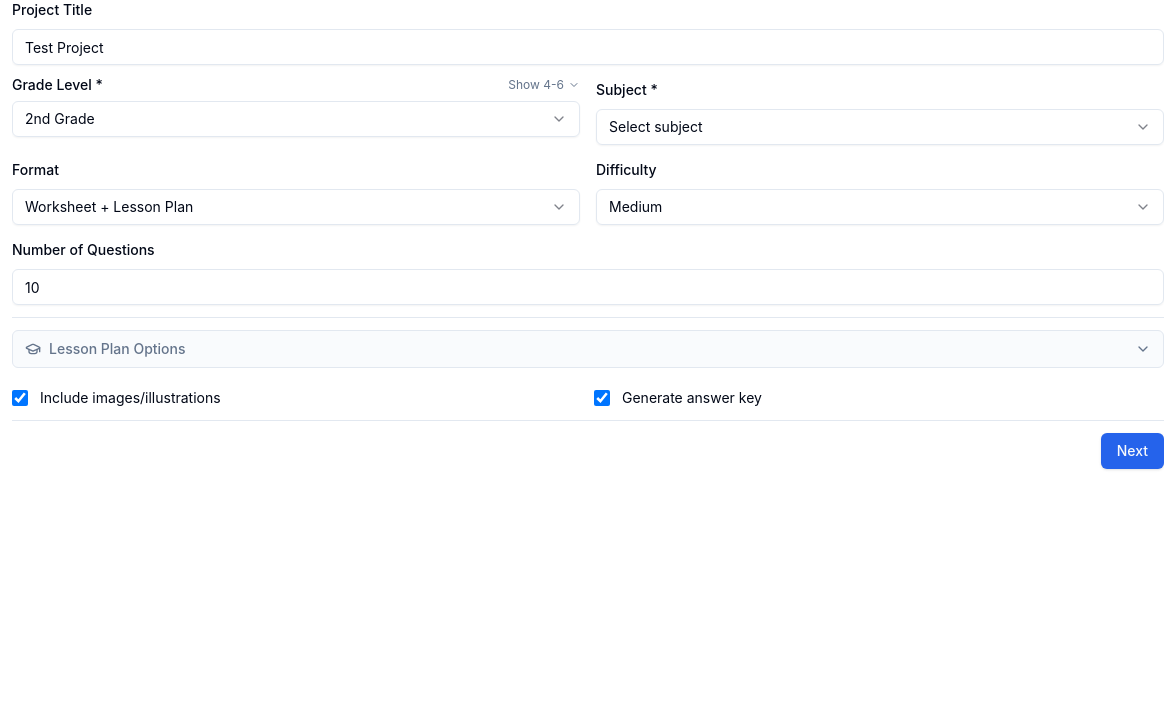
Test: ClassDetailsStep › uses stacked layout for lesson length and teaching confidence when expanded
Click the button with test id "lesson-options-toggle".
click(117, 348)  # box [12,330,1164,368]
(page scrolled)
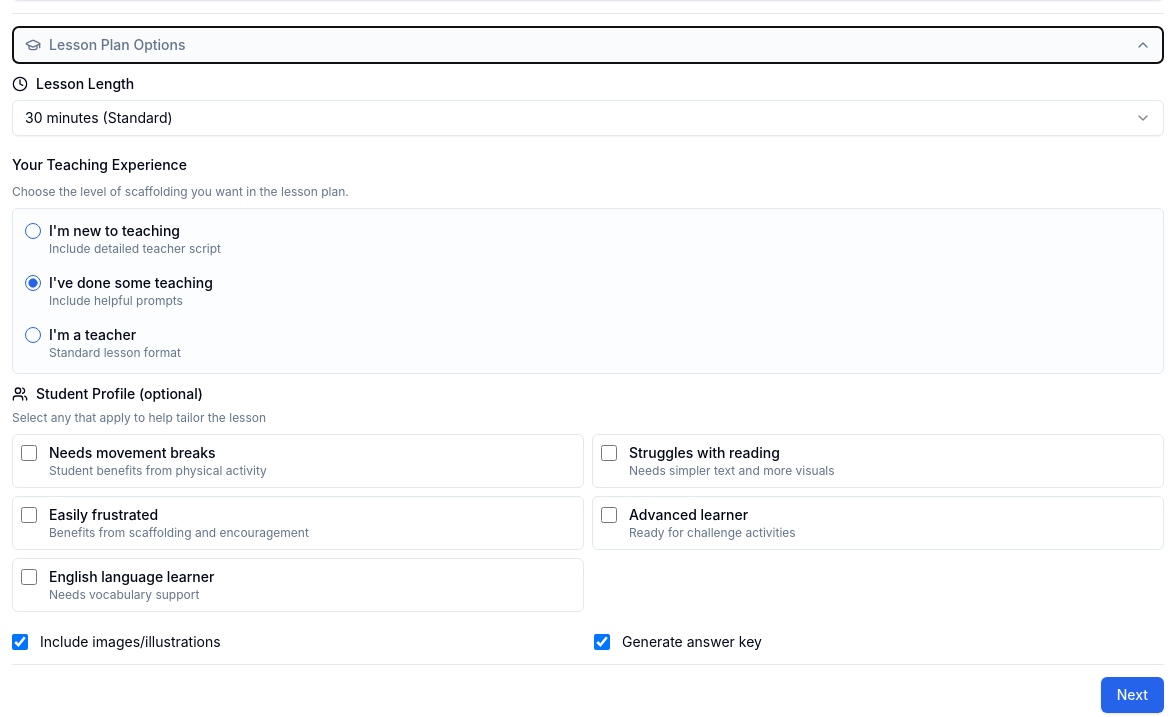
Now the element with test id "lesson-length-section" is shown, box [12,76,1164,136]
Now the element with test id "teaching-confidence-section" is shown, box [12,152,1164,374]
